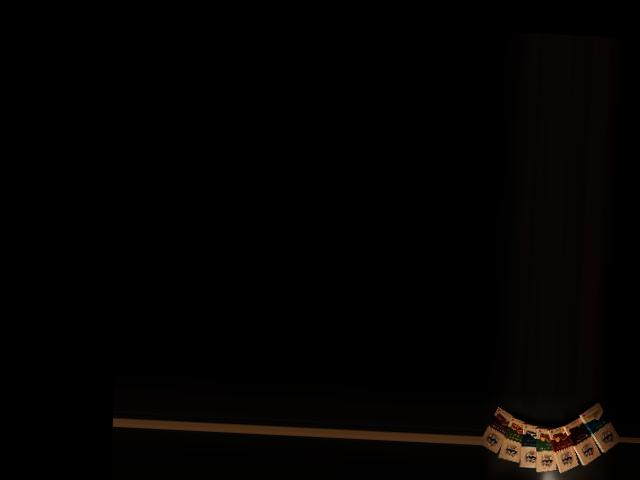chocolate: (577, 397, 620, 455)
